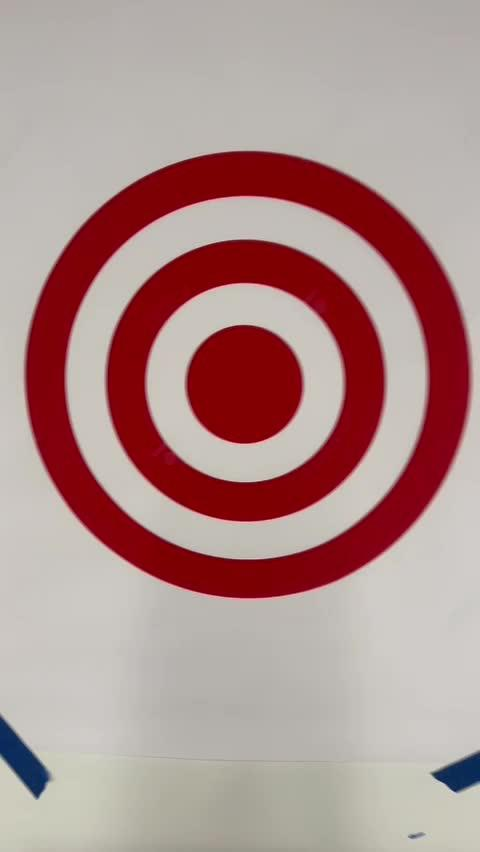target_red: (29, 152, 471, 602)
